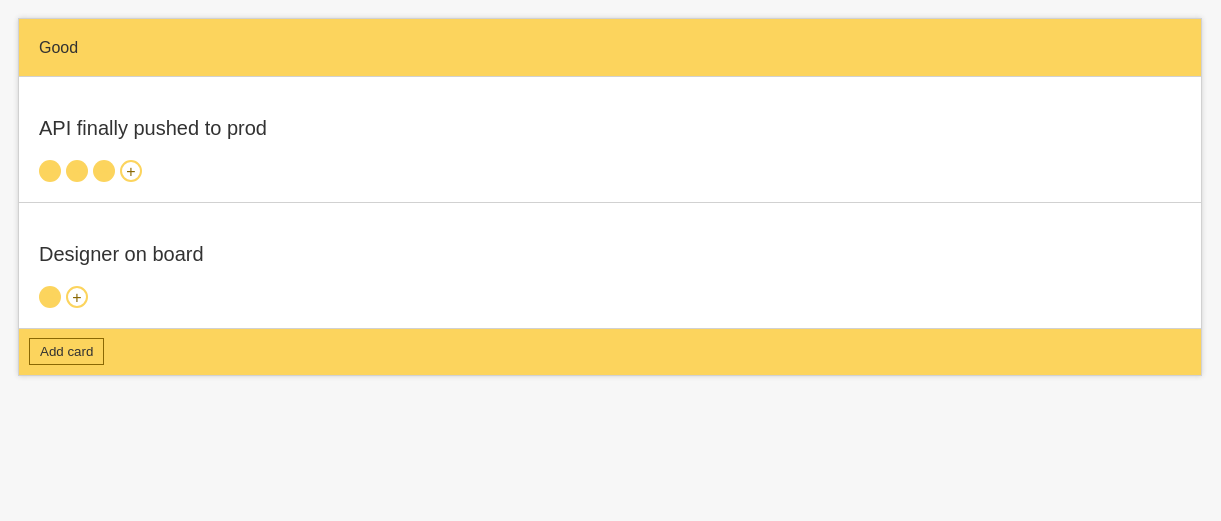
Scenario: List › should add a card
// click the add card button
Click the button "Add card": (67, 352) [29,338,104,365]
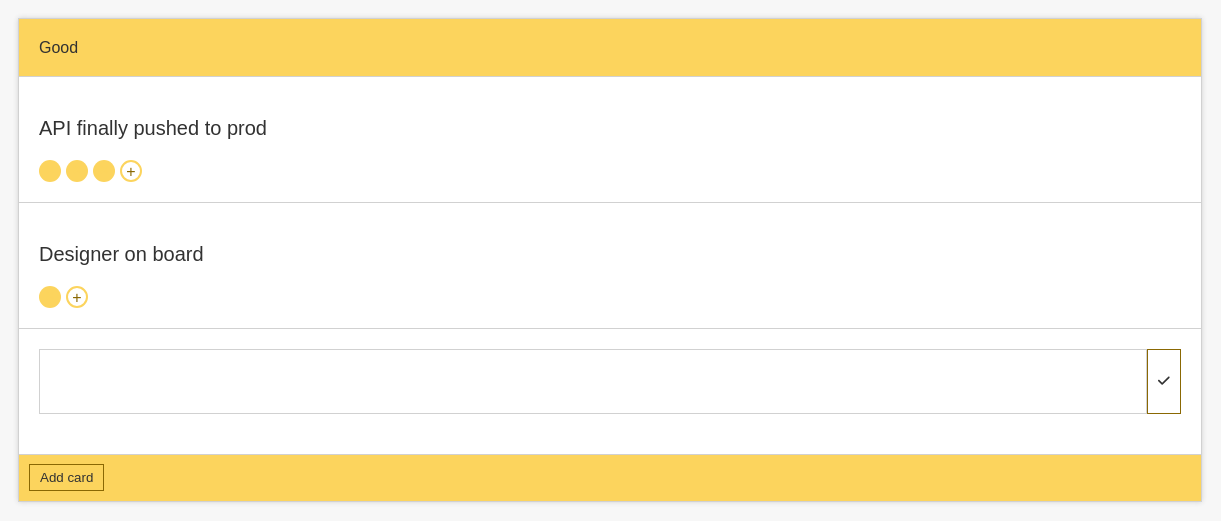
Result: the element with class "form" is shown at [39,349,1181,434]
